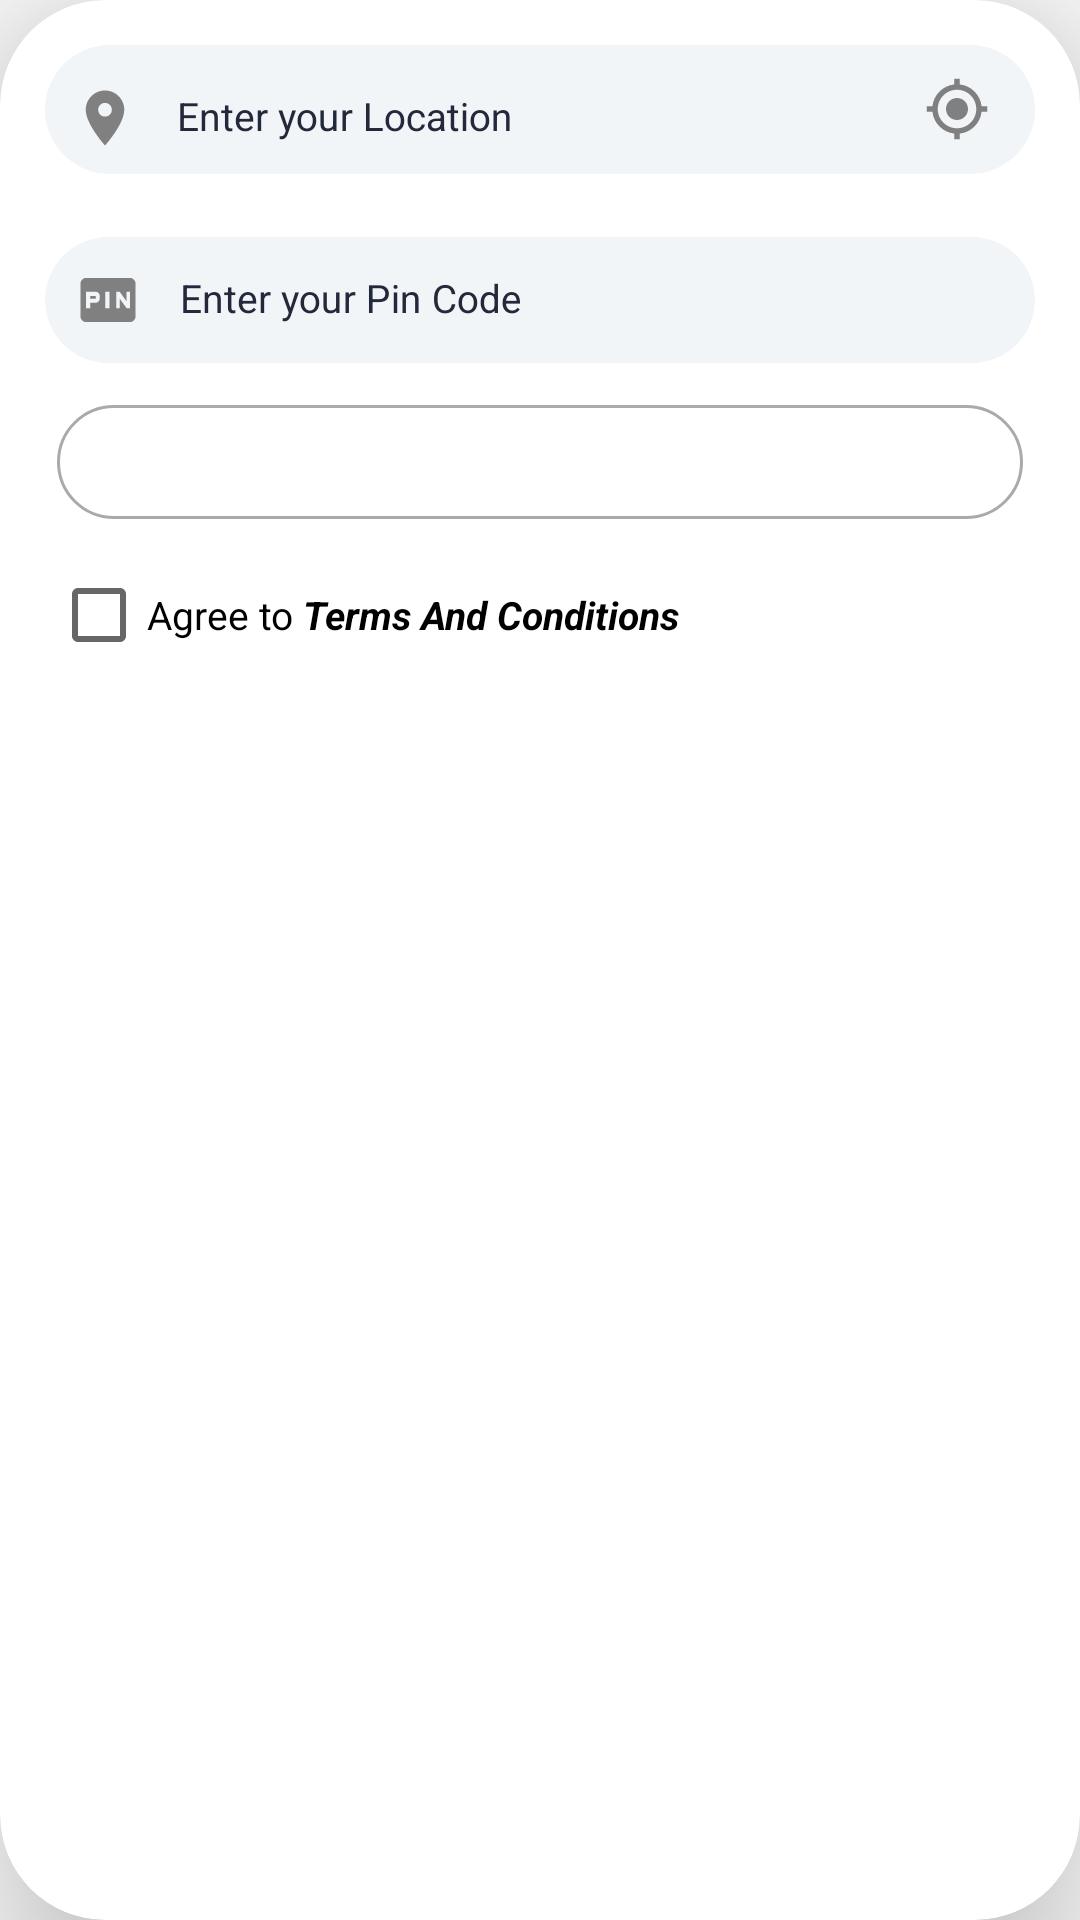

Point at icon controls on the screen. Image size 1080*1920, points as point (x, y).
GPS Icon: point (957, 109)
